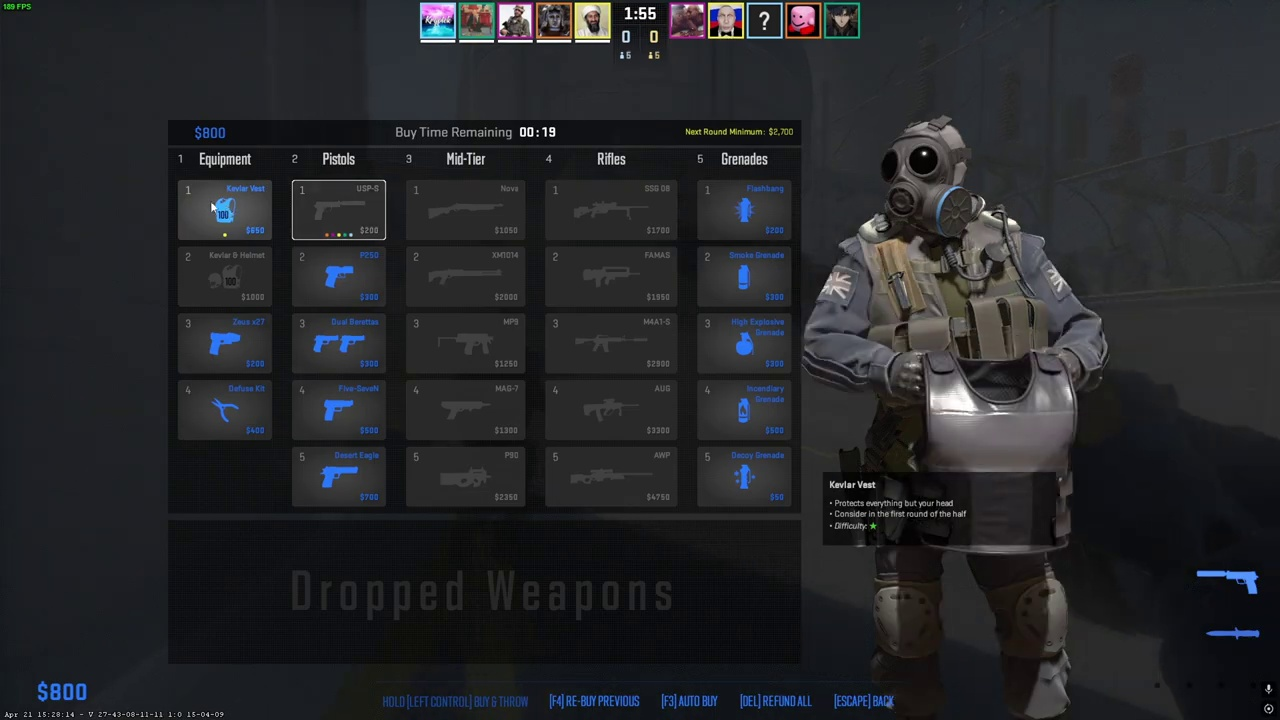CT: (853, 123, 1085, 720)
